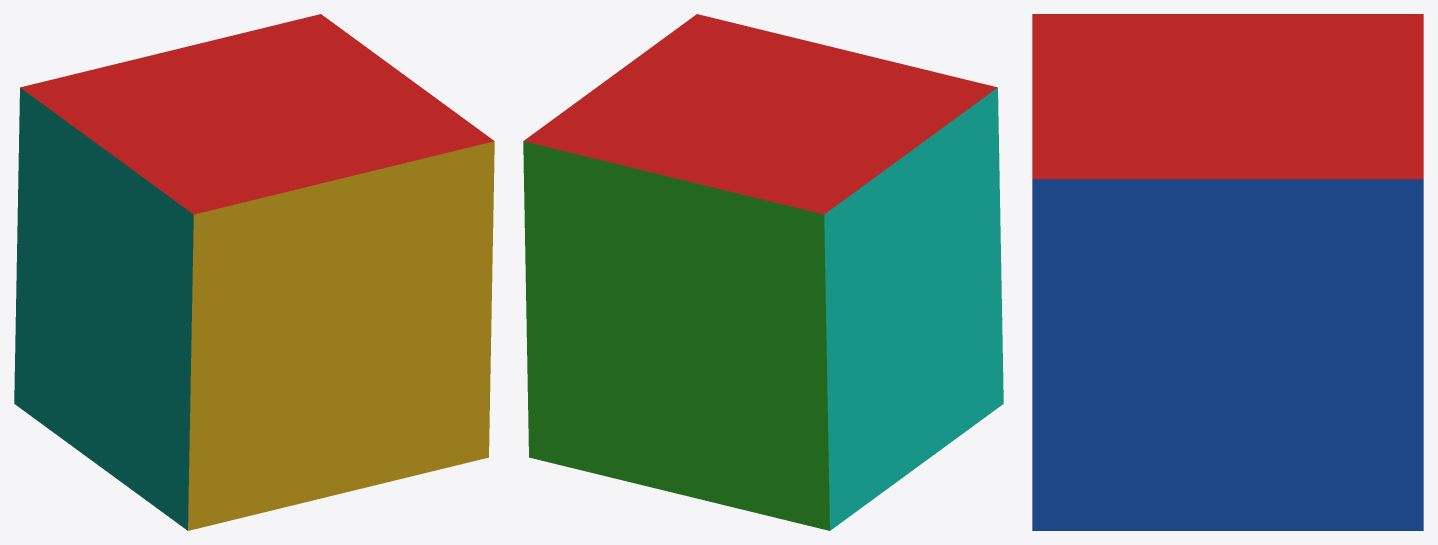
The model's file is CuboTextura.fbx.
The picture shows the model from 3 angles, left to right: view 1: azimuth 30°, elevation 25°; view 2: azimuth 150°, elevation 25°; view 3: azimuth 270°, elevation 25°; orthographic projection. The views are drawn at different scales.
Parts seen in each view (by area): view 1: Cube; view 2: Cube; view 3: Cube.
Part boxes in pixels (left/top/right/bottom): Cube: left=14, top=14, right=494, bottom=530; Cube: left=523, top=14, right=1003, bottom=530; Cube: left=1032, top=14, right=1423, bottom=530.
Bounding box in the file's own units: 204 × 200 × 200.
